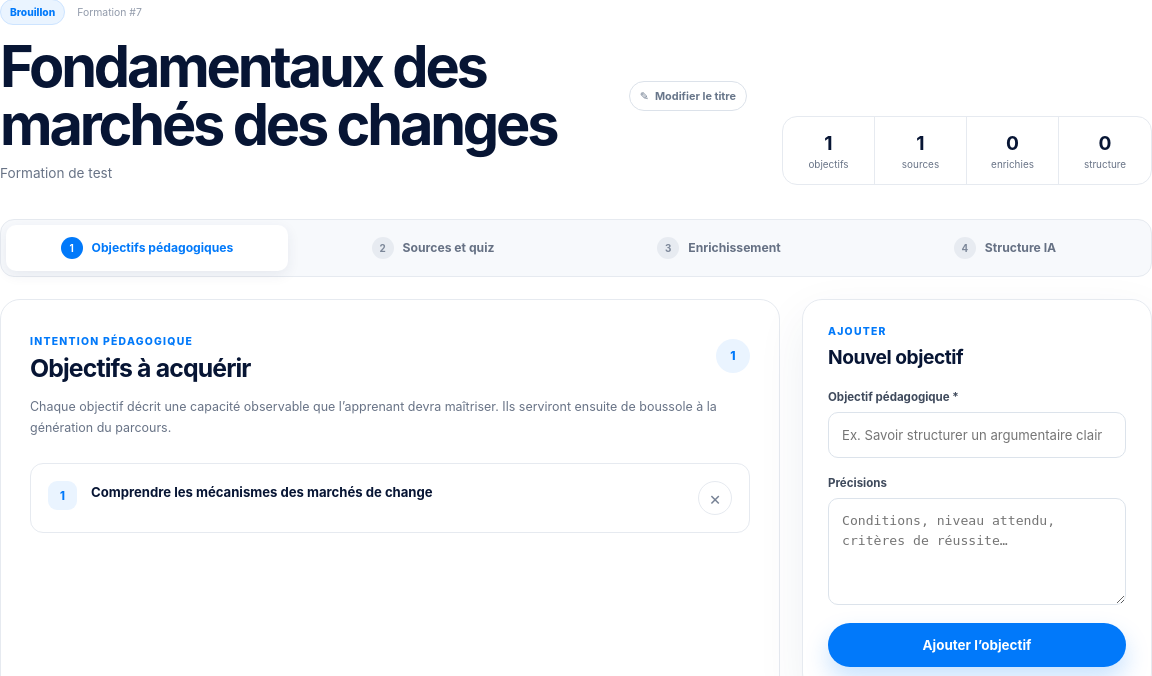
Test: AdminTrainingDetailView › affiche une proposition structurée et ses ressources
Click the button with test id "training-tab-generation" at (1005, 248), box 864,225 -> 1146,271
(page scrolled)
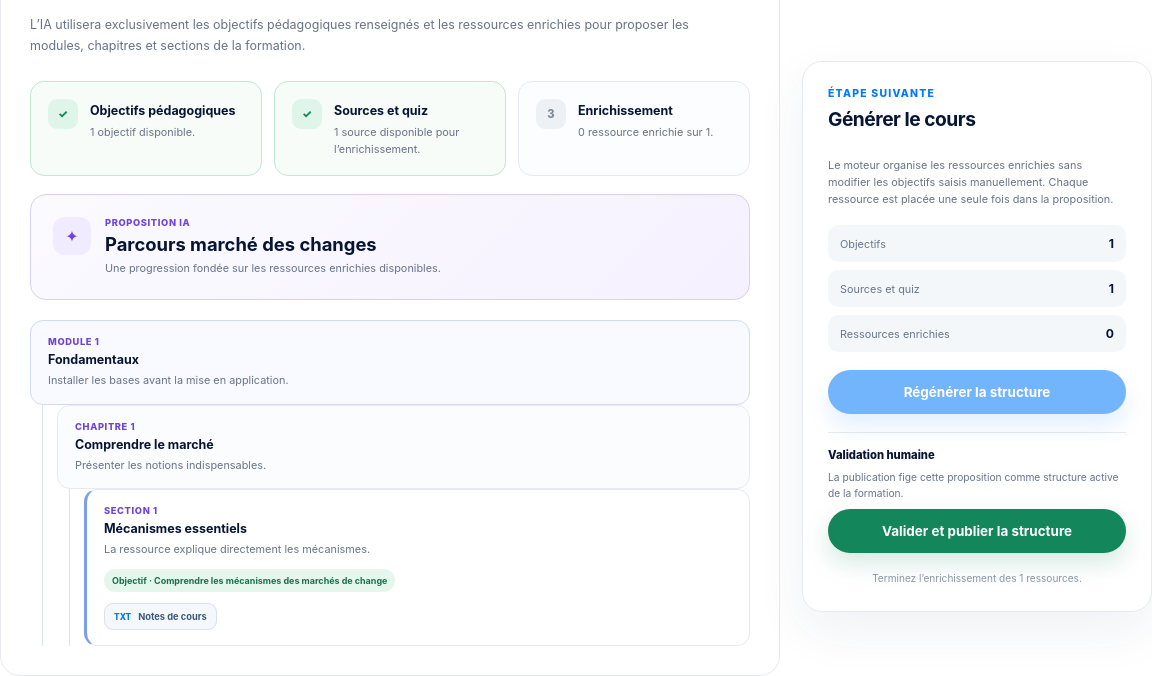
Result: the text "Parcours marché des changes" is shown at 105,233 -> 377,255
Result: the text "Mécanismes essentiels" is shown at 104,521 -> 247,536
Result: the text "Notes de cours" is shown at 104,603 -> 217,630
